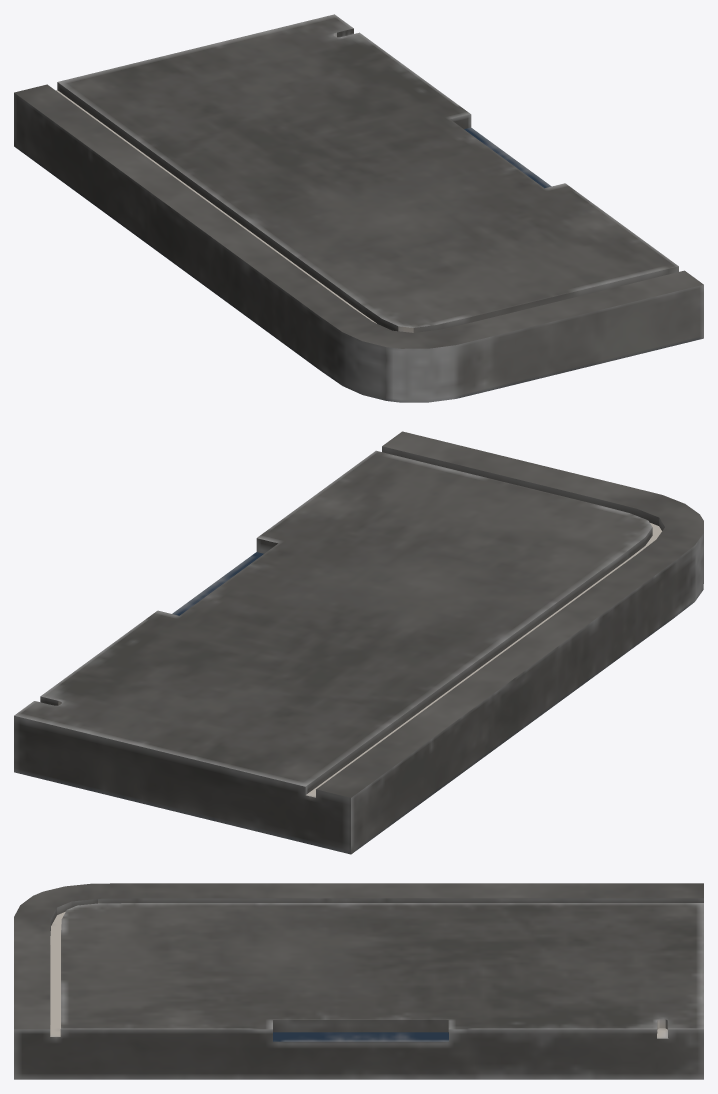
File: FUT0510036.fbx
The picture shows the model from 3 angles, top to bottom: view 1: azimuth 30°, elevation 25°; view 2: azimuth 150°, elevation 25°; view 3: azimuth 270°, elevation 25°; orthographic projection. The views are drawn at different scales.
Parts seen in each view (by area): view 1: smFUT0510036; view 2: smFUT0510036; view 3: smFUT0510036.
Part boxes in pixels (x1,y1,x2,y2): smFUT0510036: (14, 14, 703, 402); smFUT0510036: (14, 431, 703, 854); smFUT0510036: (14, 883, 703, 1079).
Size of the model in its own units: 84.17 by 13.53 by 168.
Materials: 1 (1 with a texture image).
